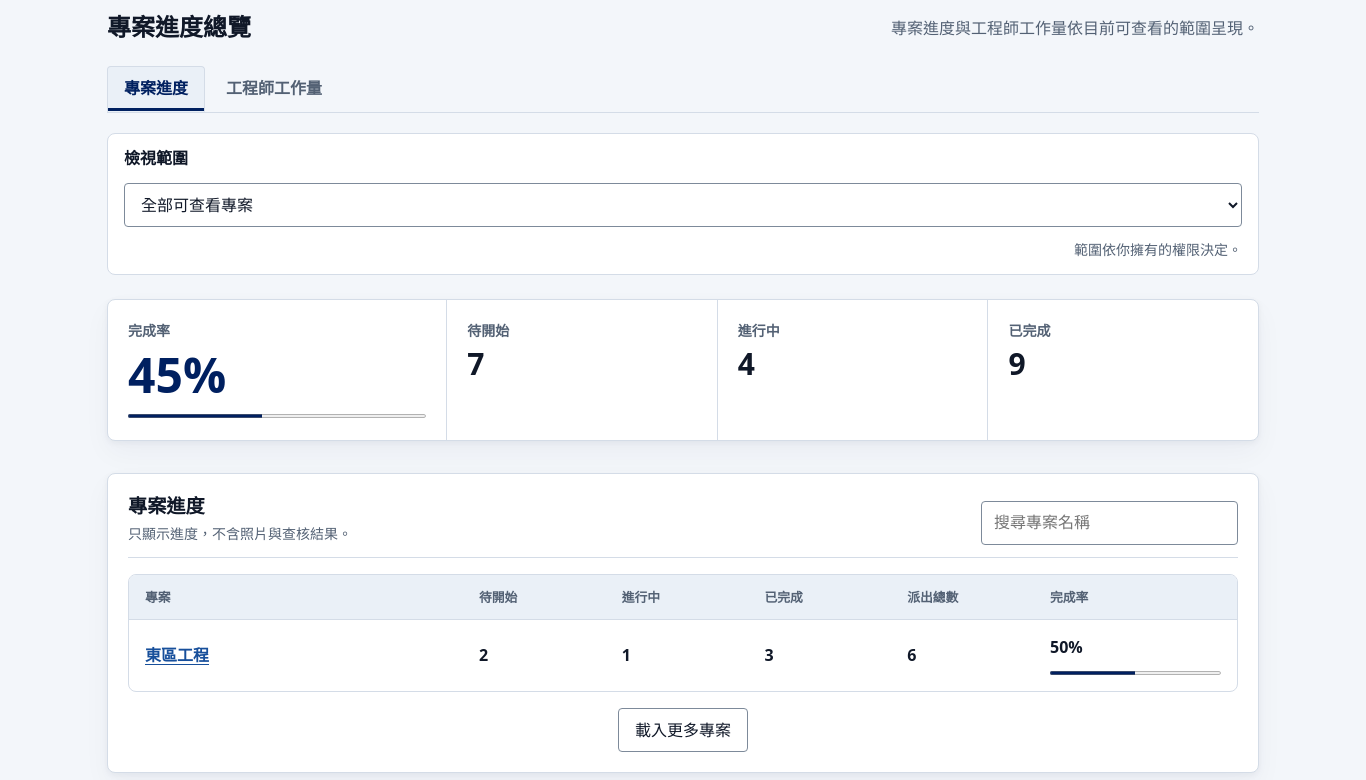
Test: Dashboard 頁面 › 搜尋改變後忽略較晚回來的舊專案分頁
The image size is (1366, 780).
Expected: the button "東區工程" is shown, [145, 634, 209, 678]
Click the button "載入更多專案".
click(683, 730)  # box [618, 708, 748, 752]
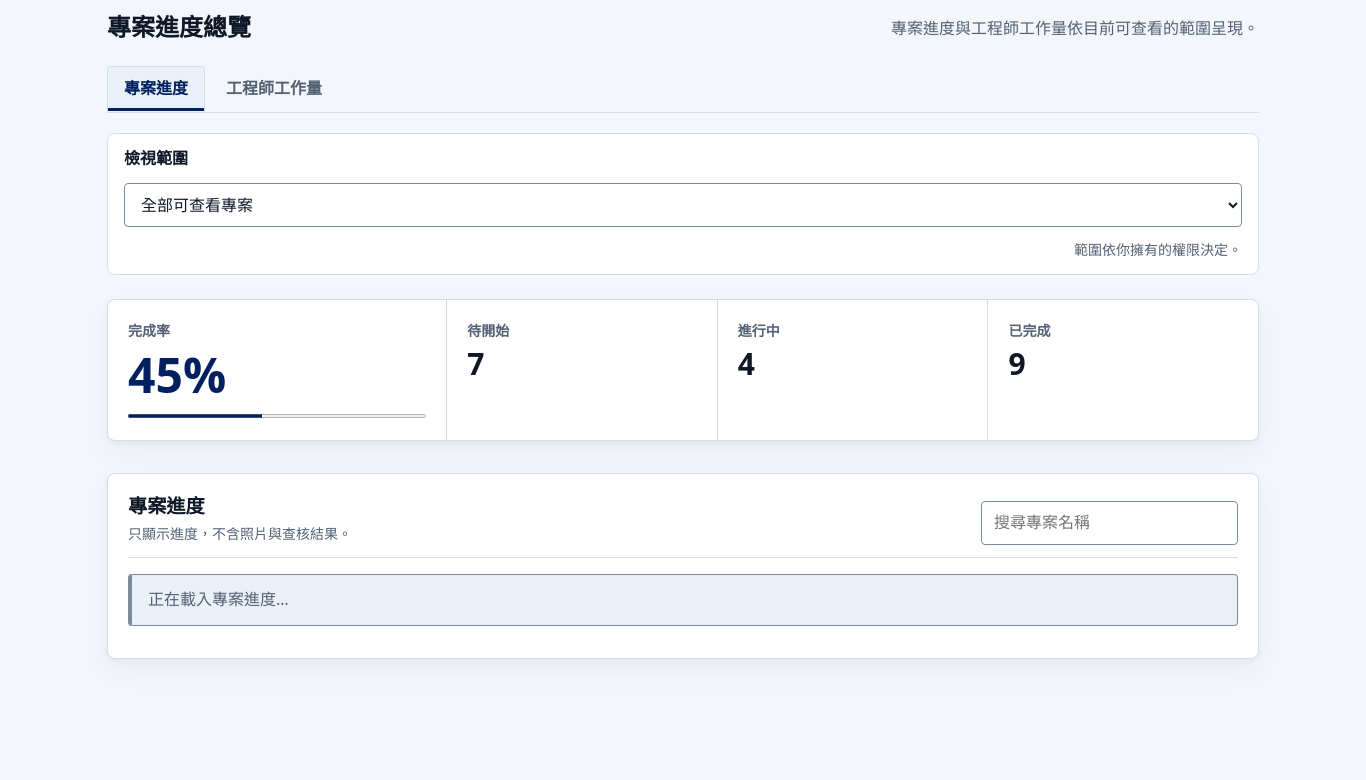
Type "西側" into the search field labelled "搜尋專案".
click(1110, 523); type("西側")  # box [981, 501, 1238, 545]
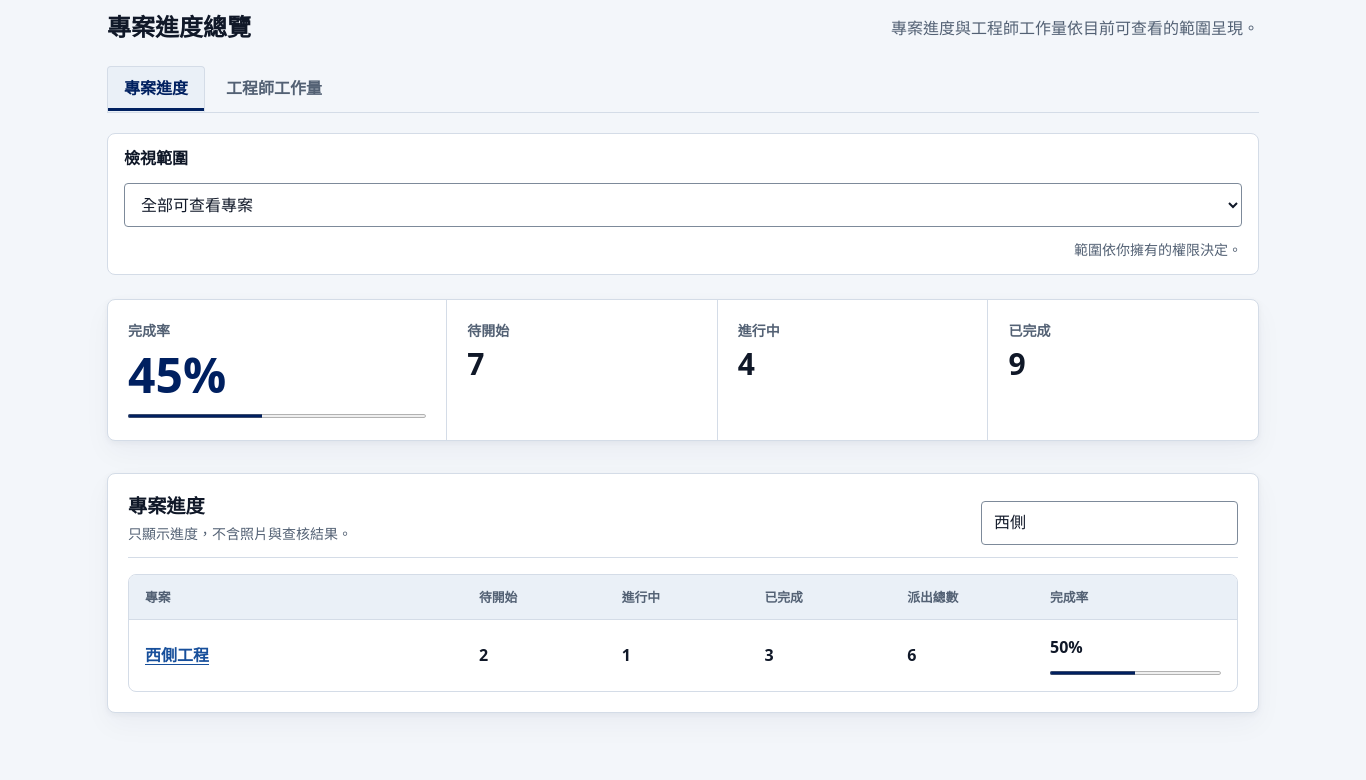
Expected: the button "東區工程" is not shown
Expected: the button "西側工程" is shown, [145, 634, 209, 678]
